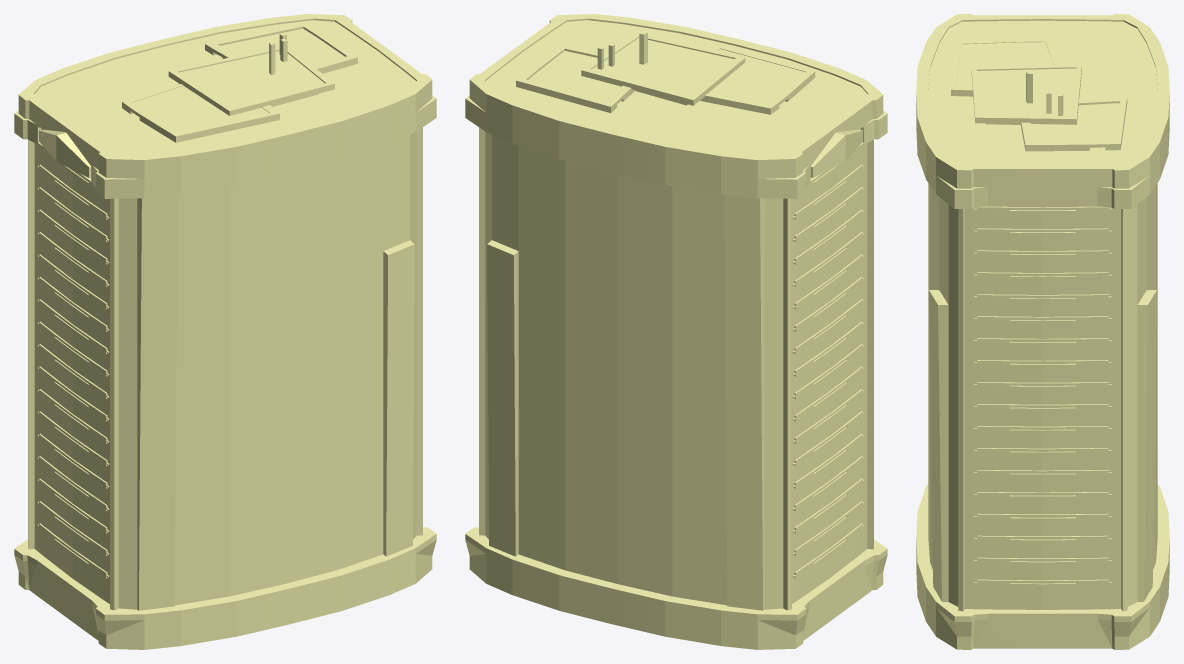
File: MangaKa Props - F_S_ScifiBuilding_65.glb
The picture shows the model from 3 angles, left to right: view 1: azimuth 30°, elevation 25°; view 2: azimuth 150°, elevation 25°; view 3: azimuth 270°, elevation 25°; orthographic projection. The views are drawn at different scales.
Parts seen in each view (by area): view 1: F_S_ScifiBuilding_65001_blueScreen, F_S_ScifiBuilding_65003_blueScreen, F_S_ScifiBuilding_65_blueScreen, F_S_ScifiBuilding_65002_blueScreen; view 2: F_S_ScifiBuilding_65001_blueScreen, F_S_ScifiBuilding_65003_blueScreen, F_S_ScifiBuilding_65_blueScreen, F_S_ScifiBuilding_65002_blueScreen; view 3: F_S_ScifiBuilding_65001_blueScreen, F_S_ScifiBuilding_65003_blueScreen, F_S_ScifiBuilding_65002_blueScreen, F_S_ScifiBuilding_65_blueScreen.
Boxes of the visible parts, box(x1,y1,x2,y2) form: F_S_ScifiBuilding_65001_blueScreen: box(28, 127, 422, 610); F_S_ScifiBuilding_65003_blueScreen: box(14, 14, 436, 649); F_S_ScifiBuilding_65_blueScreen: box(122, 22, 357, 142); F_S_ScifiBuilding_65002_blueScreen: box(37, 146, 109, 578); F_S_ScifiBuilding_65001_blueScreen: box(479, 127, 873, 610); F_S_ScifiBuilding_65003_blueScreen: box(465, 14, 887, 649); F_S_ScifiBuilding_65_blueScreen: box(516, 31, 815, 114); F_S_ScifiBuilding_65002_blueScreen: box(792, 146, 864, 578); F_S_ScifiBuilding_65001_blueScreen: box(928, 183, 1157, 611); F_S_ScifiBuilding_65003_blueScreen: box(916, 14, 1169, 649); F_S_ScifiBuilding_65002_blueScreen: box(974, 206, 1111, 586); F_S_ScifiBuilding_65_blueScreen: box(951, 39, 1127, 151).
Size of the model in its own units: 13.23 by 19.95 by 8.84.
